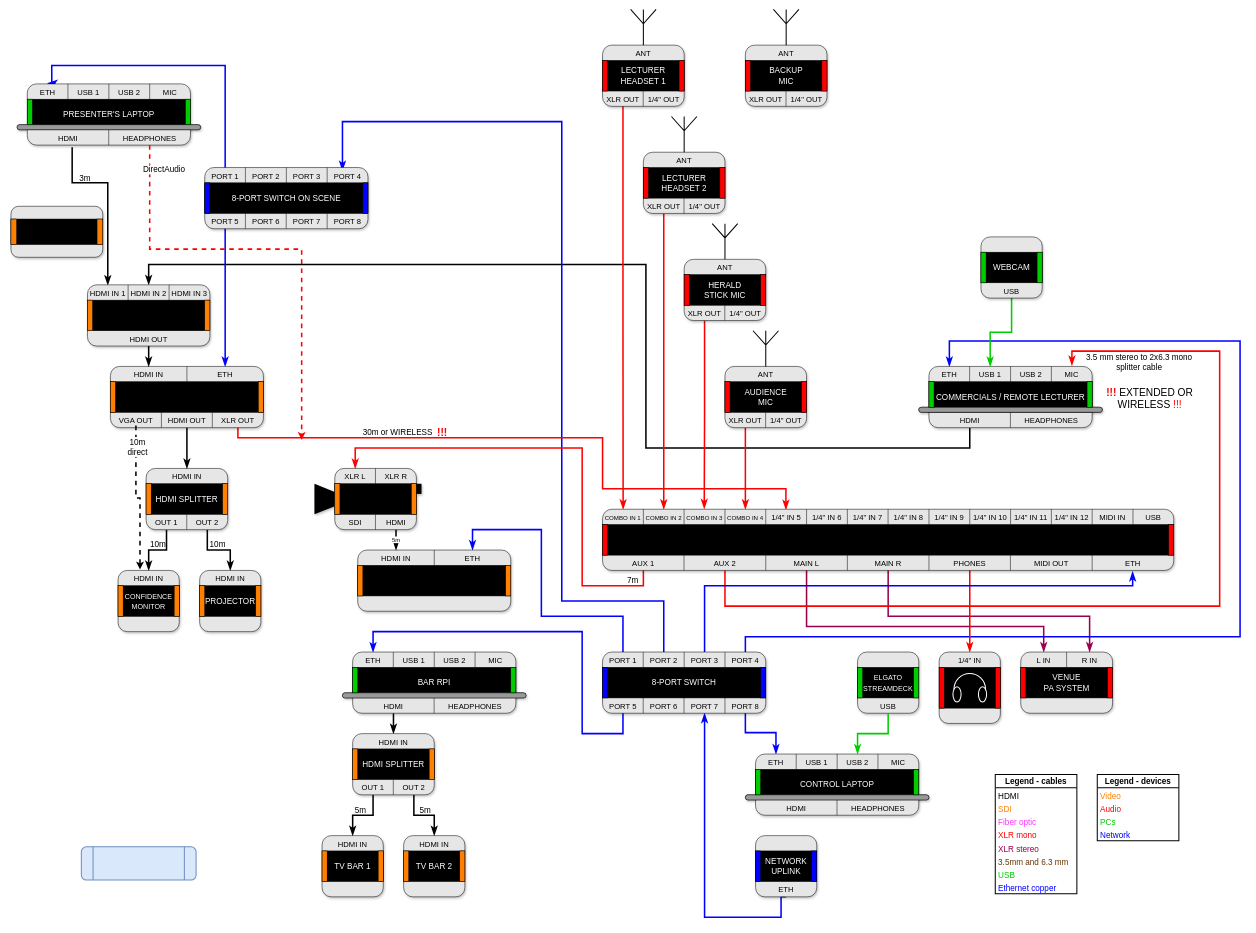
Some shapes in this 1256 by 933 pixel diagram are drawn without their labels. The centre of each missing label's shape, as x and y in pixels:
"ADAPTERS usb-c + hdmi 1080p" belongs at [56,232].
"BEHRINGER X AIR XR12" belongs at [888,539].
"FOSDEM CAMERA BOX" belongs at [434,580].
"FOSDEM SLIDES BOX" belongs at [186,396].
"HDMI SWITCH (with remote?)" belongs at [148,315].
"MAIN CAMERA" belongs at [375,498].
"OpenFest 2021 v0.1.3" belongs at [138,863].
